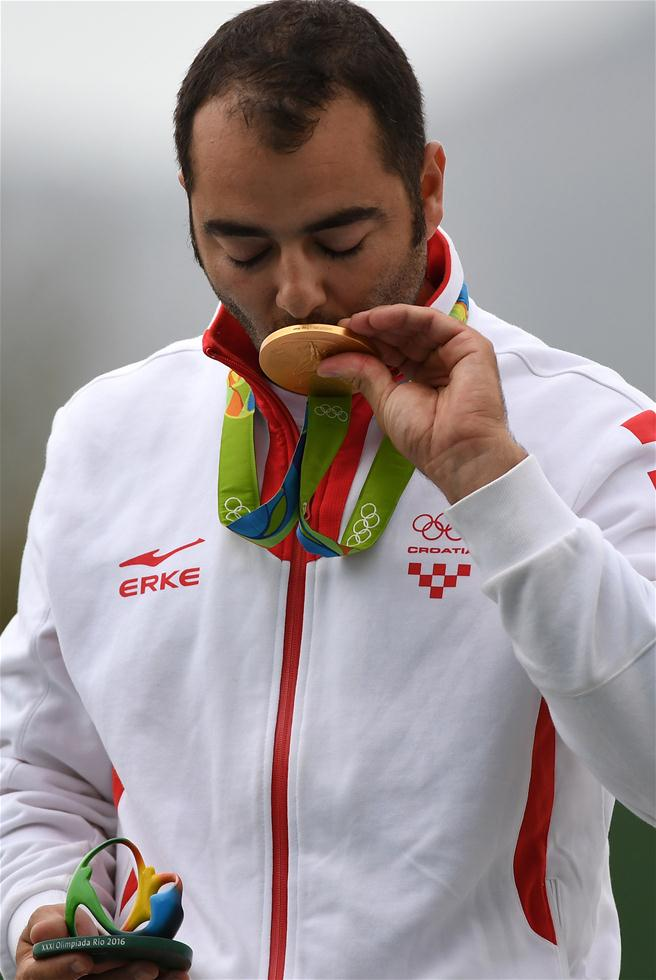face: (198, 99, 408, 372)
